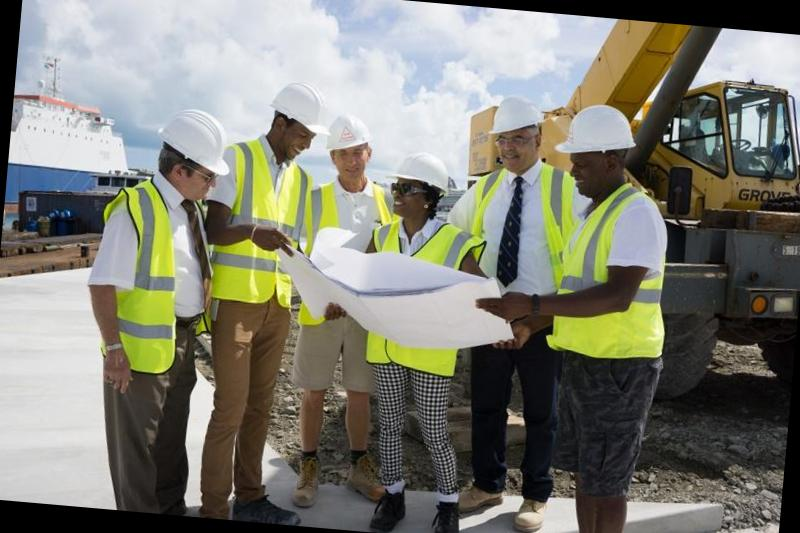Vest: (88, 175, 242, 386), (549, 193, 680, 392), (204, 135, 322, 326)
